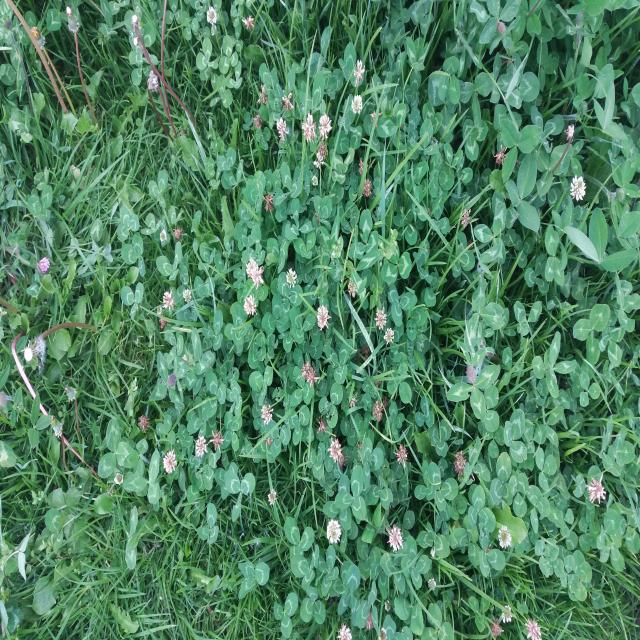Four Leaf Clover: (224, 307, 249, 345), (221, 416, 241, 452), (226, 381, 242, 412)
